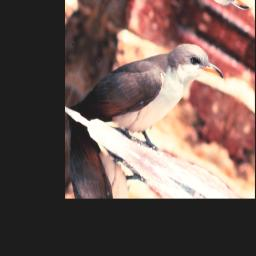Cuckoo: (68, 0, 228, 185)
